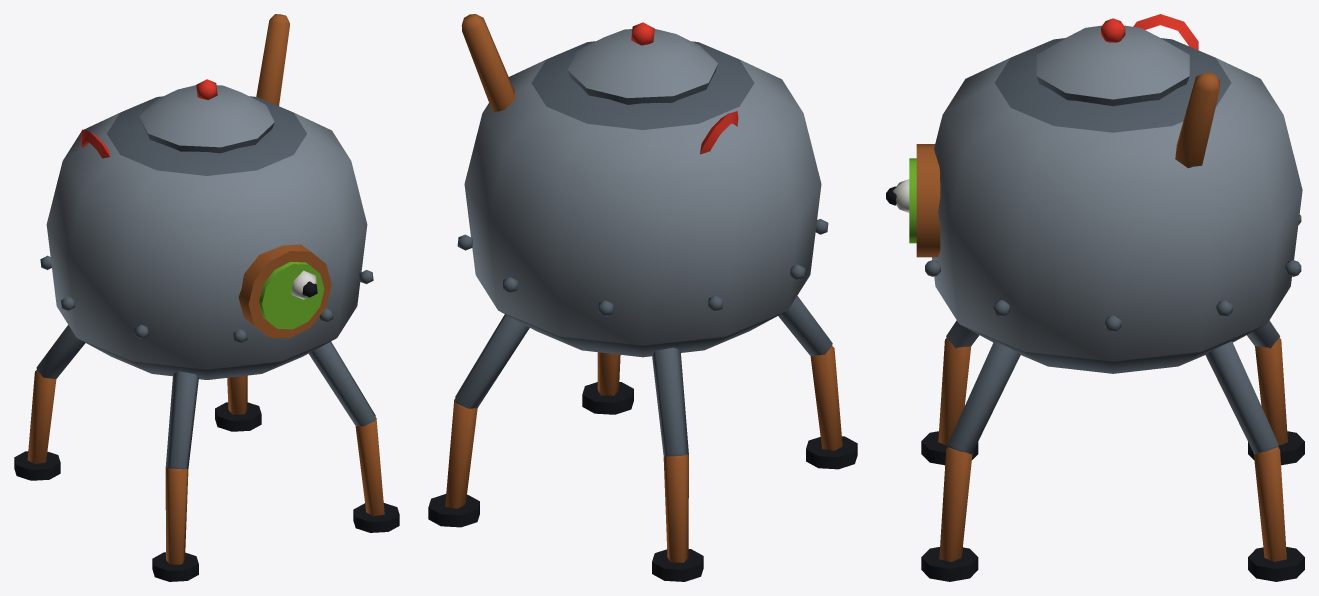
File: e_mutanten_brutkessel.glb
The picture shows the model from 3 angles, left to right: view 1: azimuth 30°, elevation 25°; view 2: azimuth 150°, elevation 25°; view 3: azimuth 270°, elevation 25°; orthographic projection. The views are drawn at different scales.
Parts seen in each view (by area): view 1: body; view 2: body; view 3: body.
Boxes of the visible parts, left/top/right/bottom form: body: left=14, top=14, right=399, bottom=581; body: left=428, top=14, right=857, bottom=581; body: left=886, top=14, right=1304, bottom=581.
Size of the model in its own units: 1.67 by 2.34 by 1.77.
